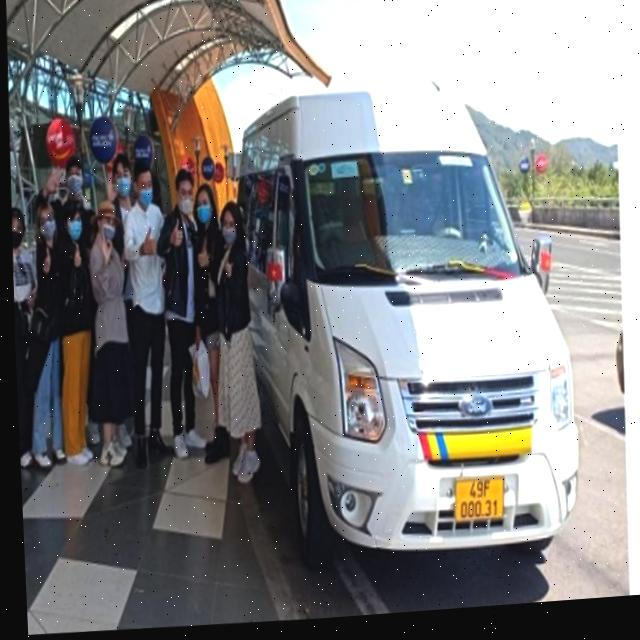car: (227, 77, 595, 619)
plate: (444, 467, 511, 530)
